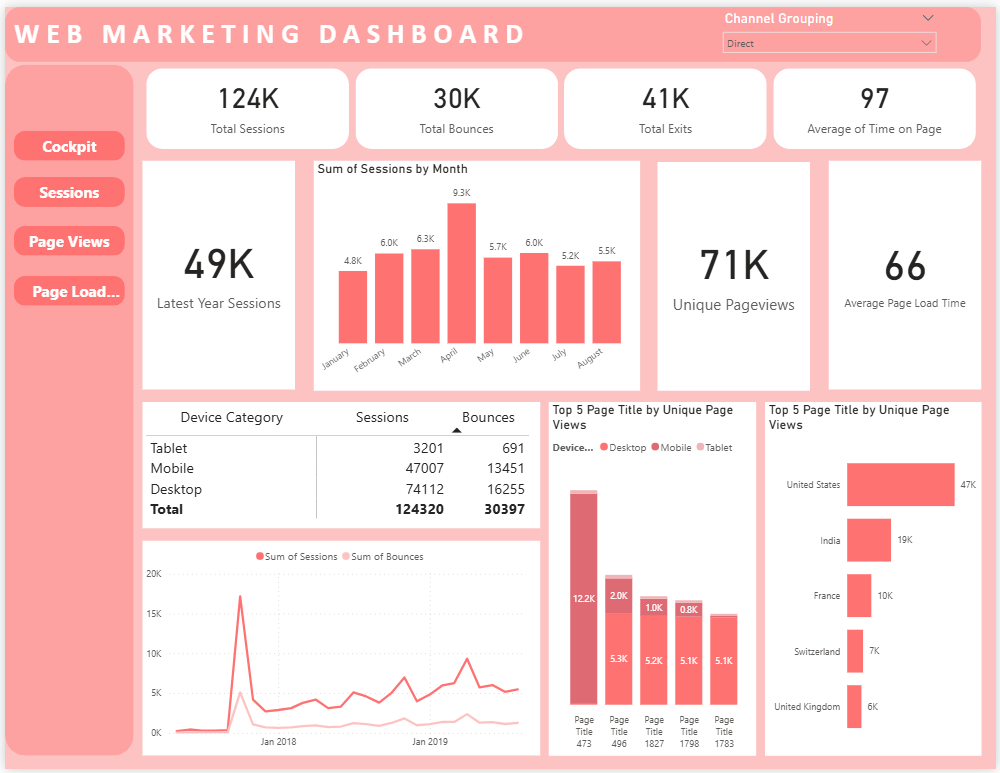

The page's visual inventory and layout, read from the dashboard file:
{"tool":"powerbi","page":{"name":"Page 1","canvas":[1300,1000],"ordinal":0},"visuals":[{"type":"textbox","box":[0,0,1280.3,72.1],"z":0},{"type":"shape","box":[0,75.4,168.9,906.6],"z":1000},{"type":"actionButton","box":[11.5,162.3,145.9,39.3],"z":2000},{"type":"actionButton","box":[11.5,223,145.9,39.3],"z":3000},{"type":"actionButton","box":[11.5,352.5,145.9,39.3],"z":4000},{"type":"actionButton","box":[11.5,286.9,145.9,39.3],"z":5000},{"type":"cardVisual","fields":{"Data":["Sum(Web Marketing_Migrated Data.Sessions)","Sum(Web Marketing_Migrated Data.Bounces)","Sum(Web Marketing_Migrated Data.Exits)","Avg(Web Marketing_Migrated Data.Time on Page)"]},"box":[180.3,75.4,1100,116.4],"z":6000},{"type":"cardVisual","fields":{"Data":["Sum(Web Marketing_Migrated Data.Sessions)"]},"box":[180.3,201.6,200,300],"z":7000},{"type":"cardVisual","fields":{"Data":["Avg(Web Marketing_Migrated Data.Page Load Time)"]},"box":[1080.3,201.6,200,300],"z":8000},{"type":"cardVisual","fields":{"Data":["Sum(Web Marketing_Migrated Data.Unique Pageviews)"]},"box":[855.7,203.3,200,300],"z":9000},{"type":"clusteredColumnChart","fields":{"Category":["Web Marketing_Migrated Data.Date.Variation.Date Hierarchy.Month"],"Y":["Sum(Web Marketing_Migrated Data.Sessions)"]},"box":[404.9,201.6,427.9,301.6],"z":10000},{"type":"pivotTable","fields":{"Rows":["Web Marketing_Migrated Data.Device Category"],"Values":["Sum(Web Marketing_Migrated Data.Sessions)","Sum(Web Marketing_Migrated Data.Bounces)"]},"box":[180.3,518,521.3,165.6],"z":11000},{"type":"lineChart","title":"Total Sessions and Bounces","fields":{"Y":["Sum(Web Marketing_Migrated Data.Sessions)","Sum(Web Marketing_Migrated Data.Bounces)"],"Category":["Web Marketing_Migrated Data.Date.Variation.Date Hierarchy.Year","Web Marketing_Migrated Data.Date.Variation.Date Hierarchy.Month"]},"box":[180.3,700,521.3,282],"z":12000},{"type":"columnChart","title":"Top 5 Page Title by Unique Page Views","fields":{"Category":["Web Marketing_Migrated Data.Page Title"],"Y":["Sum(Web Marketing_Migrated Data.Unique Pageviews)"],"Series":["Web Marketing_Migrated Data.Device Category"]},"box":[713.1,518,272.1,463.9],"z":14000},{"type":"clusteredBarChart","title":"Top 5 Page Title by Unique Page Views","fields":{"Y":["Sum(Web Marketing_Migrated Data.Unique Pageviews)"],"Category":["Web Marketing_Migrated Data.Country"]},"box":[996.7,518,283.6,463.9],"z":14001},{"type":"slicer","fields":{"Values":["Web Marketing_Migrated Data.Channel Grouping"]},"box":[931.1,0,300,72.1],"z":14002}]}

Visuals, with their boxes in screenshot pixels (x1, y1, x2, y2), scaled from the page's 1300x1000 canvas onto the 1000x773 screenshot:
textbox: (0, 0, 985, 56)
shape: (0, 58, 130, 759)
actionButton: (9, 125, 121, 156)
actionButton: (9, 172, 121, 203)
actionButton: (9, 272, 121, 303)
actionButton: (9, 222, 121, 252)
cardVisual - Sum(Web Marketing_Migrated Data.Sessions) x Sum(Web Marketing_Migrated Data.Bounces): (139, 58, 985, 148)
cardVisual - Sum(Web Marketing_Migrated Data.Sessions): (139, 156, 293, 388)
cardVisual - Avg(Web Marketing_Migrated Data.Page Load Time): (831, 156, 985, 388)
cardVisual - Sum(Web Marketing_Migrated Data.Unique Pageviews): (658, 157, 812, 389)
clusteredColumnChart - Web Marketing_Migrated Data.Date.Variation.Date Hierarchy.Month x Sum(Web Marketing_Migrated Data.Sessions): (311, 156, 641, 389)
pivotTable - Web Marketing_Migrated Data.Device Category x Sum(Web Marketing_Migrated Data.Sessions): (139, 400, 540, 528)
"Total Sessions and Bounces" lineChart: (139, 541, 540, 759)
"Top 5 Page Title by Unique Page Views" columnChart: (549, 400, 758, 759)
"Top 5 Page Title by Unique Page Views" clusteredBarChart: (767, 400, 985, 759)
slicer - Web Marketing_Migrated Data.Channel Grouping: (716, 0, 947, 56)
